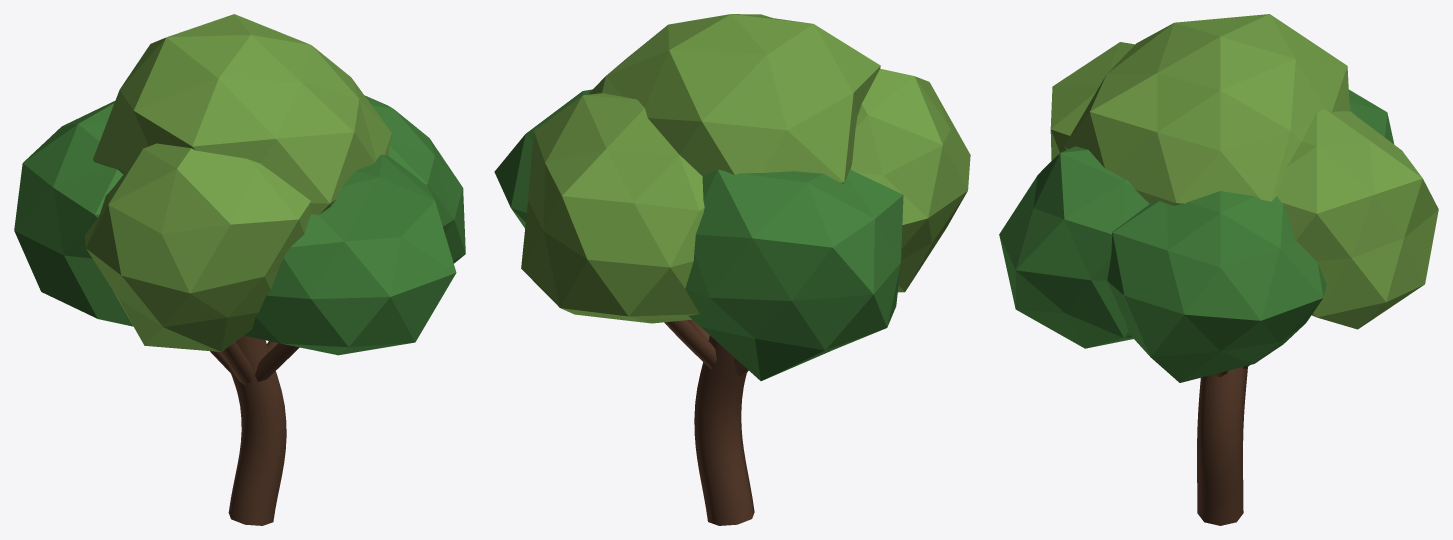
The model's file is prop-orchard.glb.
3 views of the same model, side by side, from view 1: azimuth 30°, elevation 25°; view 2: azimuth 150°, elevation 25°; view 3: azimuth 270°, elevation 25° (orthographic). The views are drawn at different scales.
Visible parts, largest first — view 1: OrchardTree_VertexPalette; view 2: OrchardTree_VertexPalette; view 3: OrchardTree_VertexPalette.
Part boxes in pixels (x1,y1,x2,y2): OrchardTree_VertexPalette: (14, 14, 465, 525); OrchardTree_VertexPalette: (494, 14, 970, 525); OrchardTree_VertexPalette: (999, 14, 1438, 525).
Bounding box in the file's own units: 4.87 × 5.75 × 4.77.
